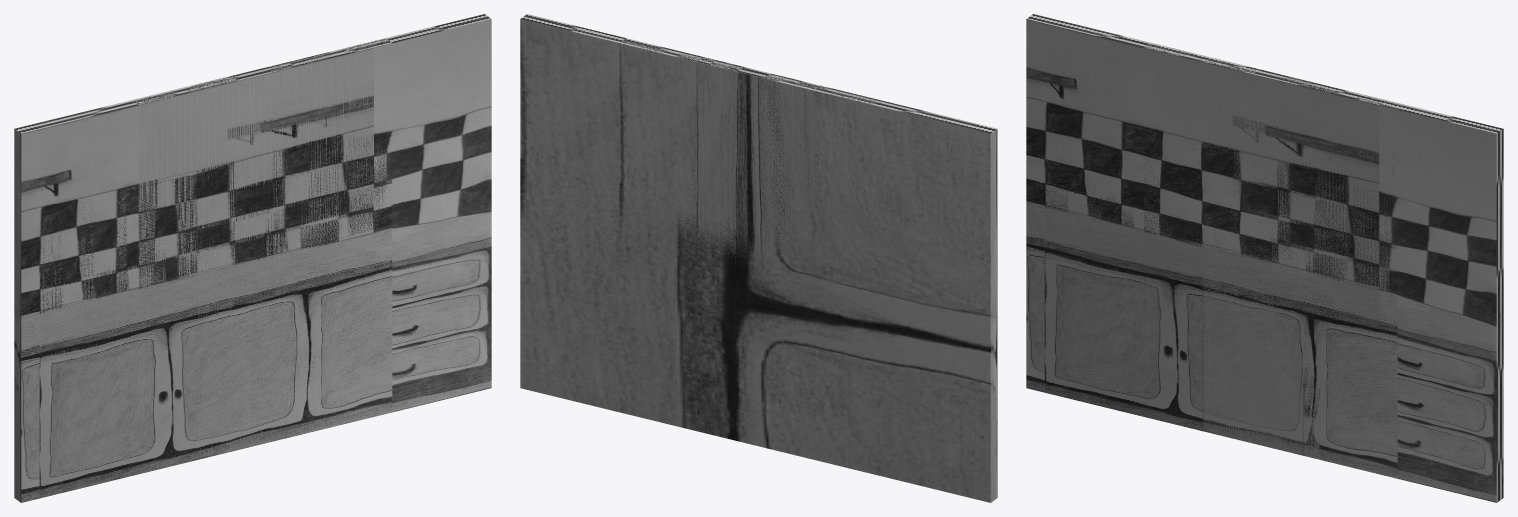
The model's file is filler2_3.fbx.
The picture shows the model from 3 angles, left to right: view 1: azimuth 30°, elevation 25°; view 2: azimuth 150°, elevation 25°; view 3: azimuth 330°, elevation 25°; orthographic projection.
Parts seen in each view (by area): view 1: Cube, Cube.003, Cube.001, Cube.002; view 2: Cube, Cube.003, Cube.002, Cube.001; view 3: Cube, Cube.003, Cube.001, Cube.002.
Part boxes in pixels (x1,y1,x2,y2): Cube: (14,14,491,502); Cube.003: (33,38,392,498); Cube.001: (134,43,373,321); Cube.002: (192,61,314,458); Cube: (520,14,997,502); Cube.003: (619,38,978,332); Cube.002: (696,57,819,277); Cube.001: (638,45,877,444); Cube: (1026,14,1503,502); Cube.003: (1044,23,1400,478); Cube.001: (1144,44,1385,418); Cube.002: (1202,61,1324,459).
Bounding box in the file's own units: 800 × 600 × 20.
